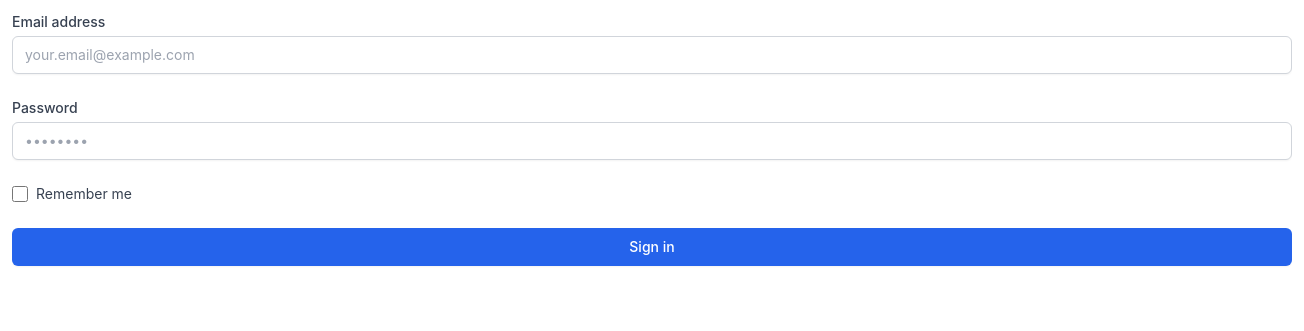
Scenario: LoginForm Component › shows validation errors for empty fields on submit
Click the button with test id "login-button": point(652, 247) x1=12 y1=228 x2=1292 y2=266
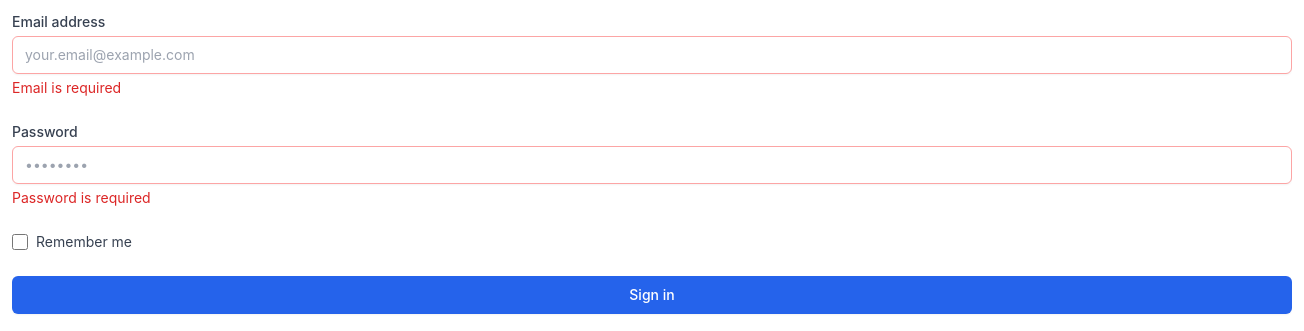
Result: the text "Email is required" is shown at x1=12 y1=79 x2=121 y2=96
Result: the text "Password is required" is shown at x1=12 y1=189 x2=151 y2=206
